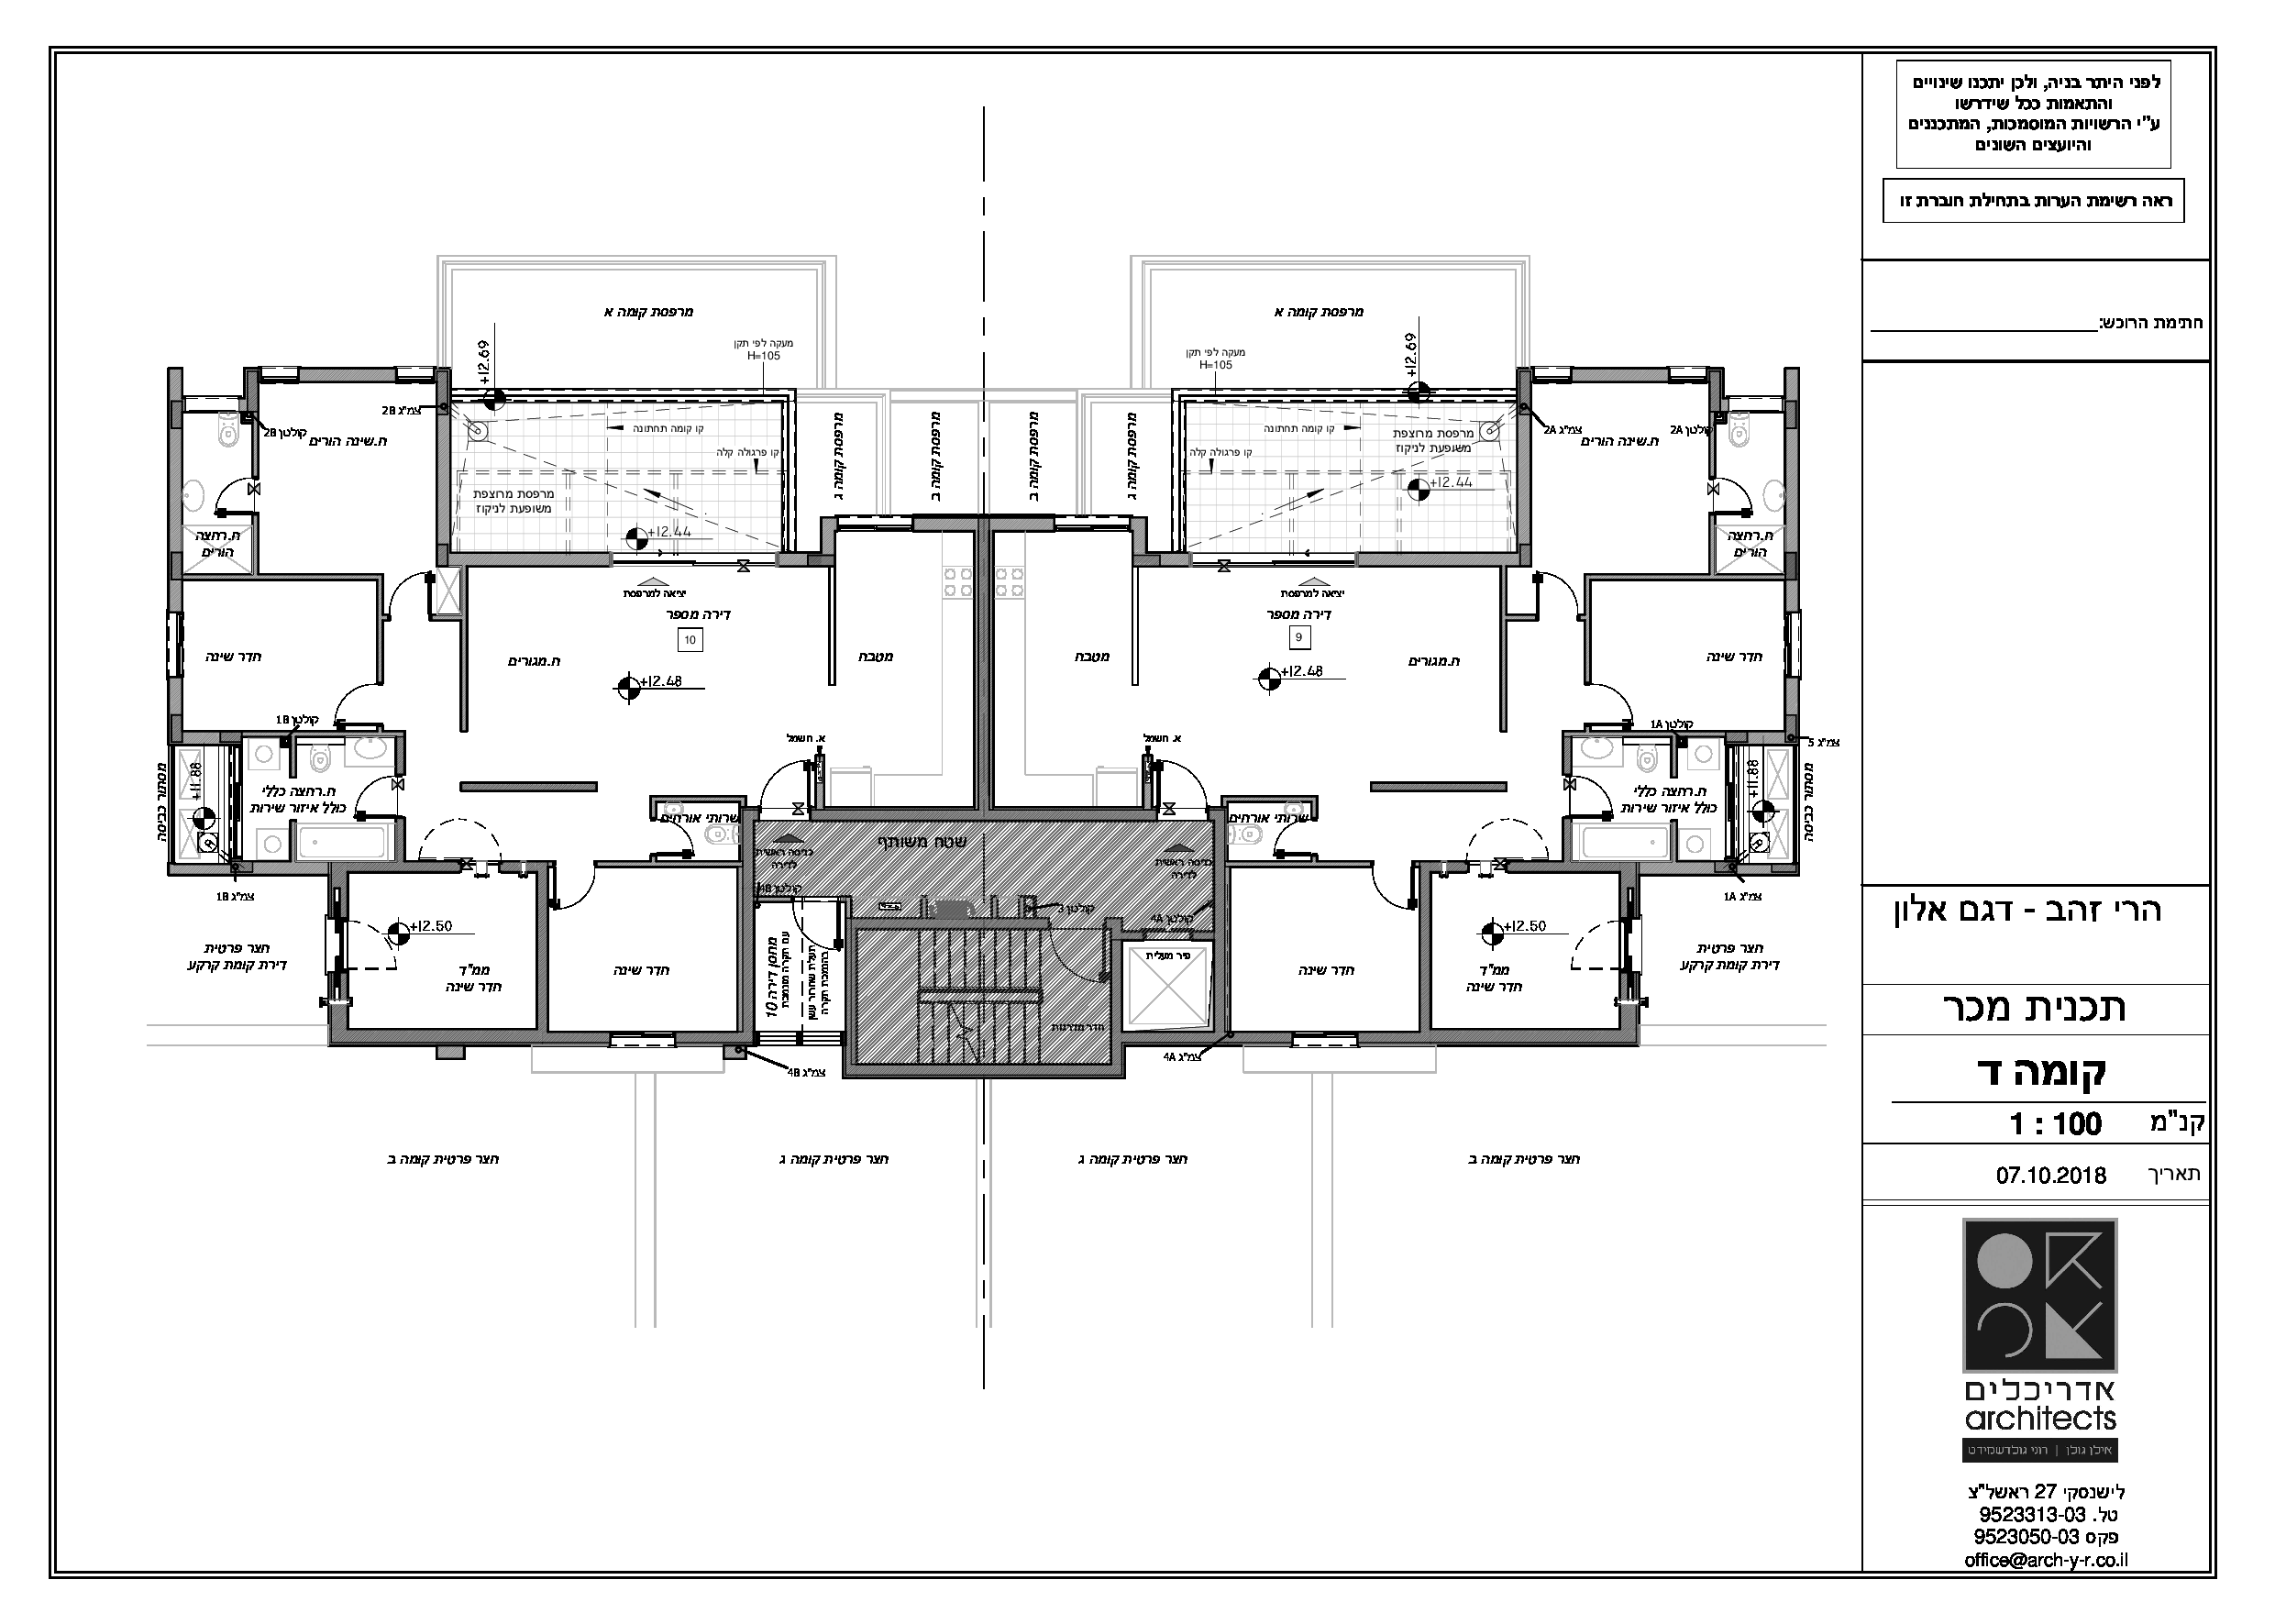door: (748, 747, 815, 808), (1572, 768, 1623, 826), (1564, 919, 1614, 977), (350, 917, 399, 977), (1156, 752, 1209, 803), (323, 678, 374, 728), (348, 766, 394, 821), (1593, 677, 1641, 728), (1528, 566, 1581, 612), (552, 868, 604, 912), (1367, 874, 1414, 921), (386, 562, 436, 606), (657, 816, 704, 858), (211, 468, 249, 518), (1723, 476, 1759, 522), (1274, 810, 1307, 858)
rd: (1829, 18, 2228, 1624)
wall: (817, 808, 1156, 817), (334, 1032, 601, 1040), (1386, 1032, 1630, 1040), (1216, 812, 1224, 1046), (849, 1063, 1117, 1070), (745, 814, 752, 1033), (1361, 555, 1516, 564), (1787, 431, 1797, 552), (1520, 420, 1530, 540), (1421, 861, 1428, 1037), (469, 555, 603, 564), (1513, 861, 1630, 870), (856, 919, 1042, 924), (539, 865, 545, 1040), (1578, 371, 1660, 381), (439, 418, 446, 540), (170, 432, 177, 554), (1114, 947, 1121, 1067), (344, 861, 453, 868), (1643, 863, 1709, 874), (469, 784, 578, 789), (264, 865, 327, 874)
window: (833, 501, 921, 540), (1051, 508, 1135, 540), (160, 605, 190, 682), (604, 1026, 678, 1056), (1286, 1026, 1361, 1055), (1778, 606, 1806, 682), (750, 1028, 849, 1049), (392, 357, 439, 388), (255, 359, 302, 388), (1665, 360, 1709, 390), (1528, 360, 1574, 388)
